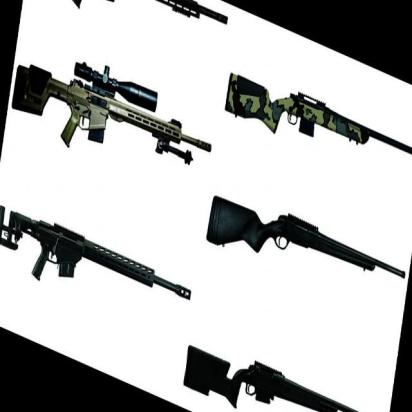Gun: (7, 41, 213, 201), (205, 173, 411, 332), (0, 191, 197, 350), (217, 53, 412, 212), (182, 320, 388, 412)
